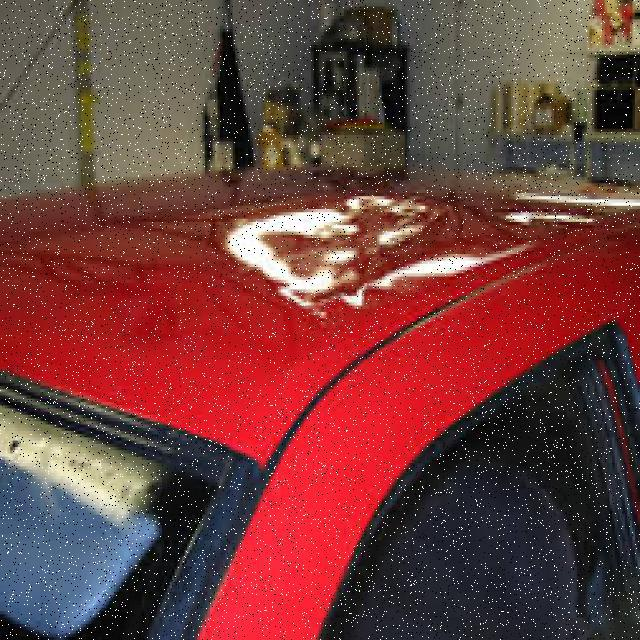roof-dent: (0, 167, 528, 514)
